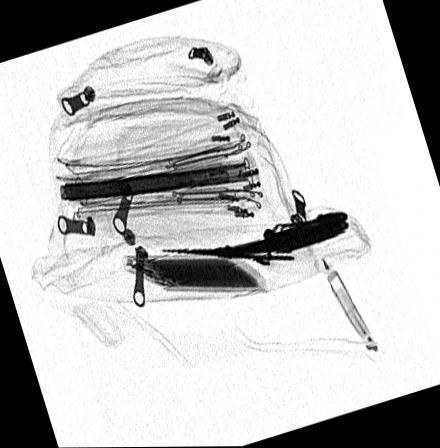Knife: (211, 207, 348, 256)
Powerbank: (117, 252, 268, 293)
Scissors: (160, 225, 321, 291)
